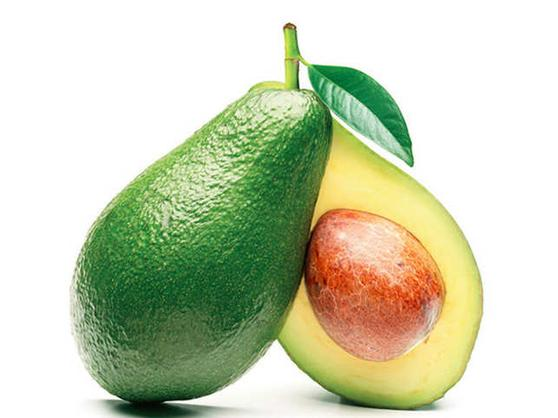avocado: (74, 89, 329, 408)
